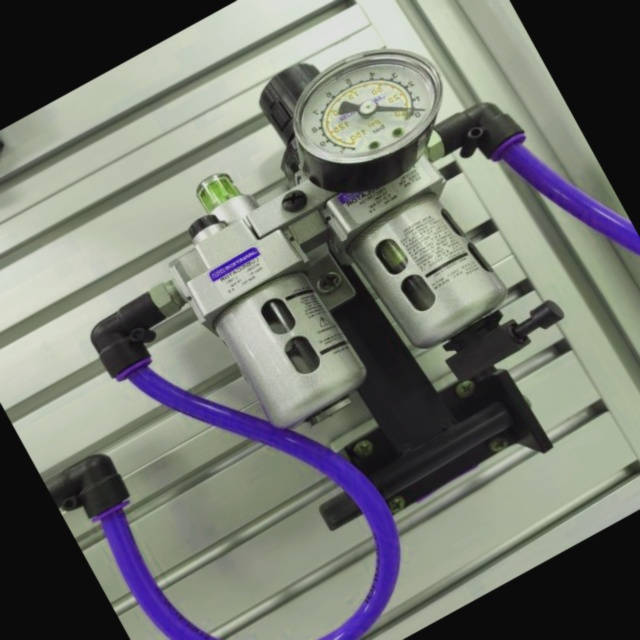FRL unit: (36, 0, 640, 615)
push button: (262, 19, 475, 217)
